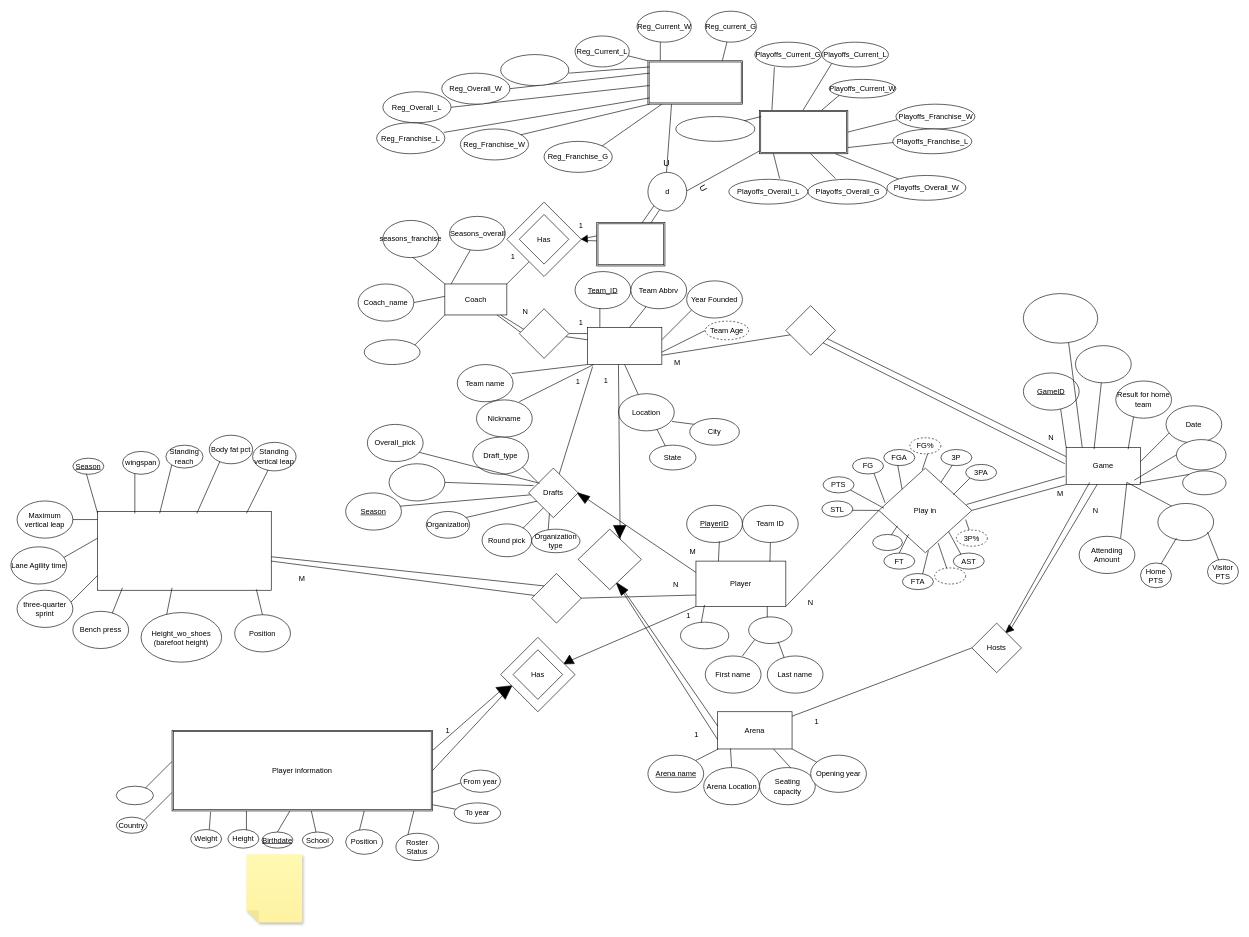
The diagram is 1249 pixels wide and 937 high, and some of its shapes have lost their labels. The centre of each missing label's shape, as x and y in pixels:
"Attends" goes at (x=556, y=598).
"CoachID" goes at (x=392, y=352).
"CoachStats" goes at (x=630, y=244).
"Draft combine" goes at (x=184, y=550).
"Final score" goes at (x=1185, y=522).
"FT%" goes at (x=950, y=575).
"HasHomeArena" goes at (x=609, y=559).
"Home Team Name" goes at (x=1204, y=482).
"Instructs" goes at (x=544, y=333).
"isActive? (1/0)" goes at (x=704, y=635).
"Length" goes at (x=1103, y=364).
"MP" goes at (x=887, y=542).
"Name" goes at (x=770, y=630).
"Overtime" goes at (x=1060, y=318).
"Play" goes at (x=810, y=330).
"PlayoffGameCoachStats" goes at (x=803, y=132).
"Playoffs_Franchise_G" goes at (x=715, y=128).
"Reg_Overall_G" goes at (x=534, y=70).
"RegularGameCoachStats" goes at (x=694, y=82).
"Round number" goes at (x=416, y=482).
"Seasons played" goes at (x=134, y=795).
"Supposed to be dotted underline for Partial key" goes at (x=275, y=889).
"Team" goes at (x=624, y=346).
"Visitor Team Name" goes at (x=1201, y=454).
